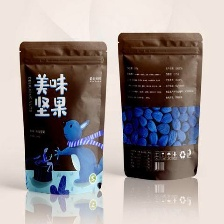snack: (10, 33, 112, 200), (110, 25, 207, 184)
